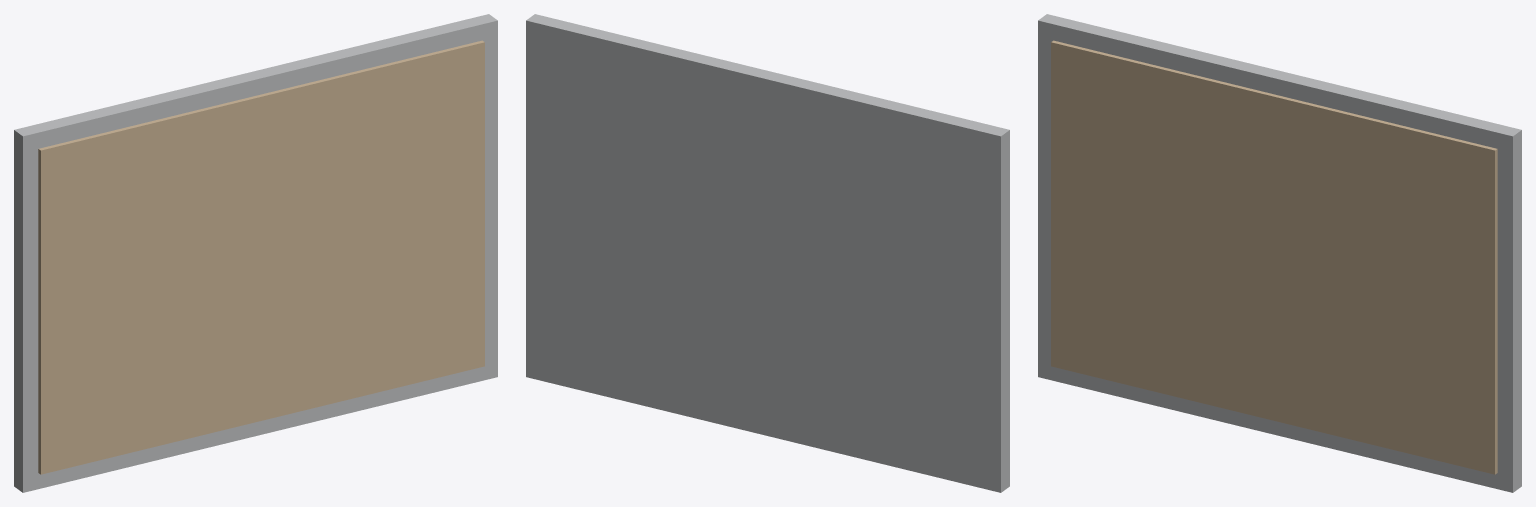
Rendered from NoticeBoard.fbx.
The picture shows the model from 3 angles, left to right: view 1: azimuth 30°, elevation 25°; view 2: azimuth 150°, elevation 25°; view 3: azimuth 330°, elevation 25°; orthographic projection.
Visible parts, largest first — view 1: NoticeBoard; view 2: NoticeBoard; view 3: NoticeBoard.
Part boxes in pixels (box(x1,y1,x2,y2)): NoticeBoard: box(14, 14, 497, 492); NoticeBoard: box(526, 14, 1009, 492); NoticeBoard: box(1038, 14, 1521, 492).
Size of the model in its own units: 0.92 by 0.66 by 0.038.
